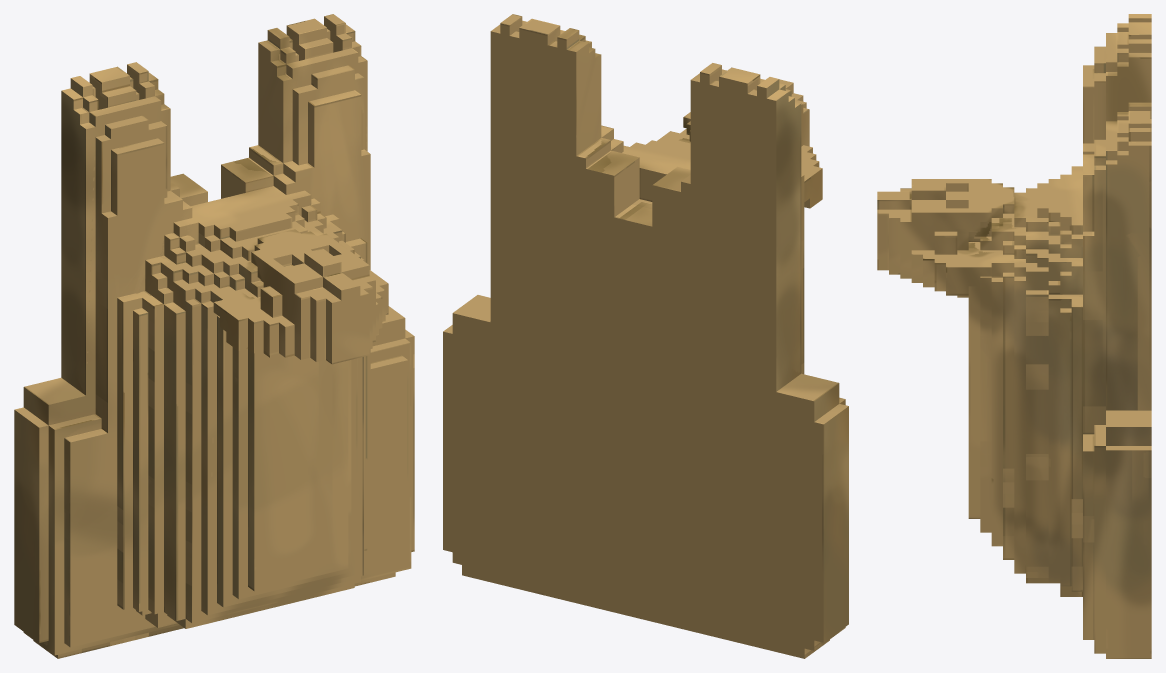
The model's file is tuong nhan su.fbx.
The picture shows the model from 3 angles, left to right: view 1: azimuth 30°, elevation 25°; view 2: azimuth 150°, elevation 25°; view 3: azimuth 270°, elevation 25°; orthographic projection. The views are drawn at different scales.
Visible parts, largest first — view 1: Sphinx; view 2: Sphinx; view 3: Sphinx.
Part boxes in pixels (<box>): Sphinx: <box>14,14,414,658</box>; Sphinx: <box>443,14,848,658</box>; Sphinx: <box>877,14,1151,658</box>.
Size of the model in its own units: 822 by 1159 by 564.
Materials: 1 (1 with a texture image).
